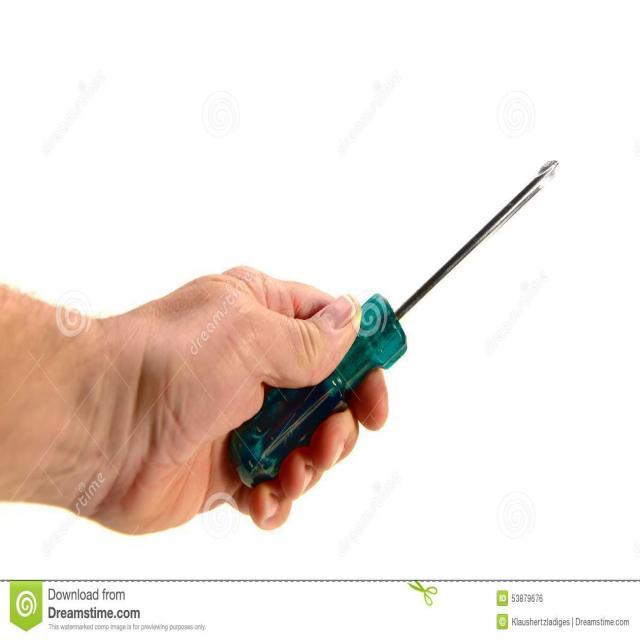screwdriver: (225, 154, 570, 492)
